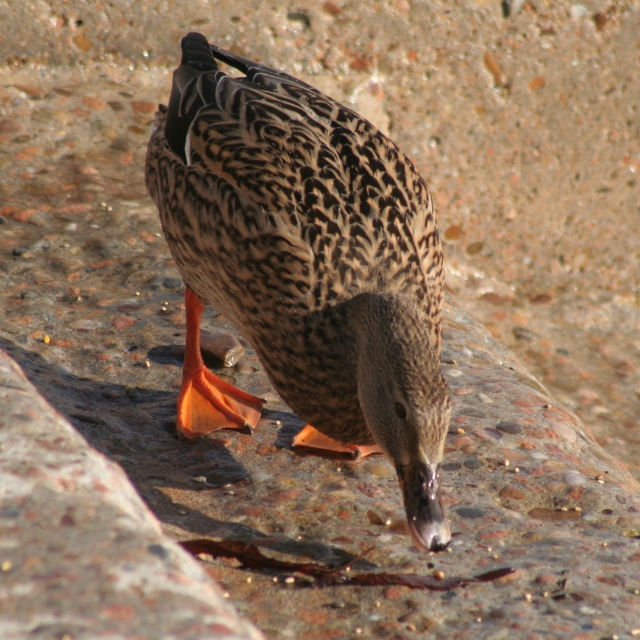Goose: (144, 36, 445, 554)
